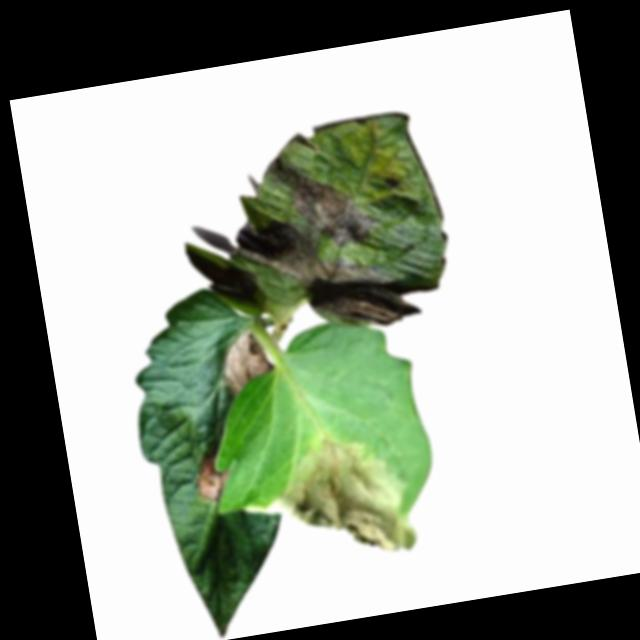Late_blight: (224, 132, 456, 342), (261, 427, 419, 575), (214, 323, 275, 399), (189, 453, 235, 508)
